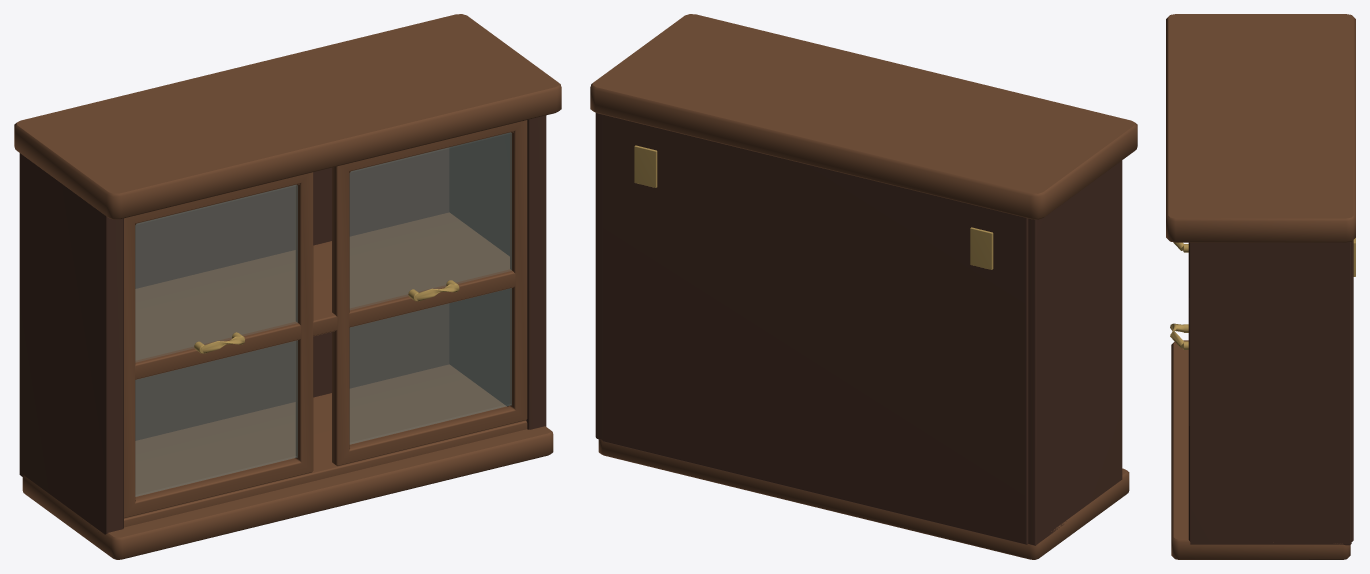
File: rpg-mansion-kitchen-glazed-wall-900-01.glb
3 views of the same model, side by side, from view 1: azimuth 30°, elevation 25°; view 2: azimuth 150°, elevation 25°; view 3: azimuth 270°, elevation 25° (orthographic). The views are drawn at different scales.
Parts seen in each view (by area): view 1: rpg-mansion-kitchen-glazed-wall-900-01; view 2: rpg-mansion-kitchen-glazed-wall-900-01; view 3: rpg-mansion-kitchen-glazed-wall-900-01.
Boxes of the visible parts, <box> form: rpg-mansion-kitchen-glazed-wall-900-01: <box>14,14,561,559</box>; rpg-mansion-kitchen-glazed-wall-900-01: <box>590,14,1137,559</box>; rpg-mansion-kitchen-glazed-wall-900-01: <box>1166,14,1355,559</box>.
Size of the model in its own units: 0.9 by 0.7 by 0.35.
